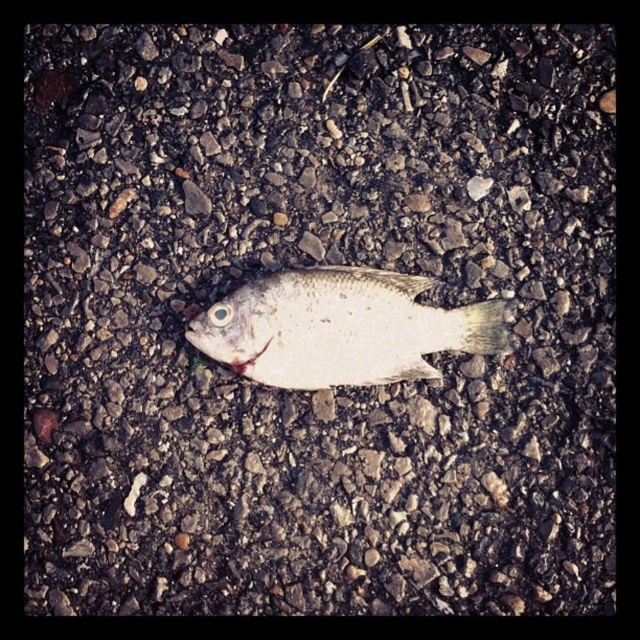Fish: (175, 257, 520, 401)
